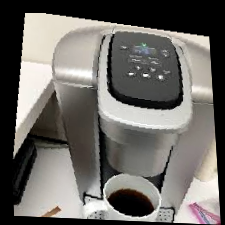10oz: (141, 73, 152, 80)
12oz: (156, 75, 167, 81)
4oz: (134, 64, 144, 71)
6oz: (148, 66, 159, 73)
8oz: (125, 71, 136, 78)
